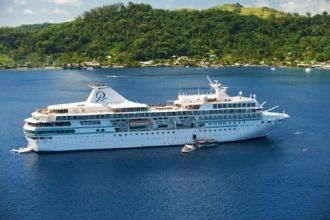otherboat: (180, 142, 196, 155), (197, 138, 220, 147)
youlun: (17, 75, 281, 153)
